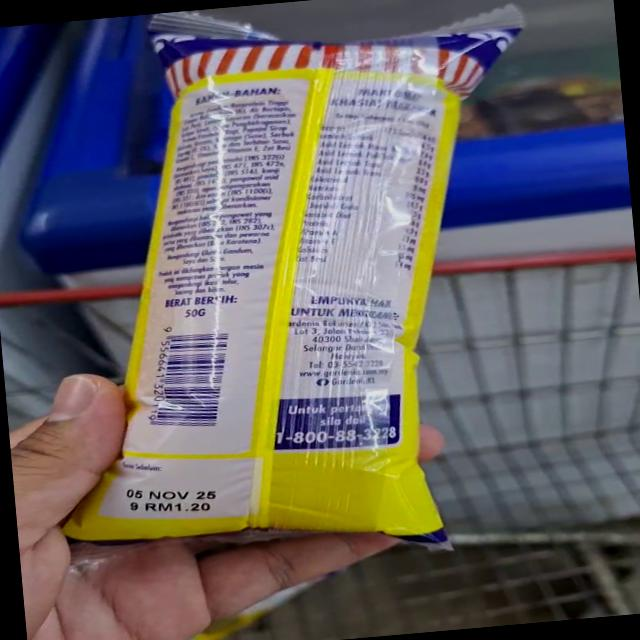Roti: (106, 0, 530, 569)
